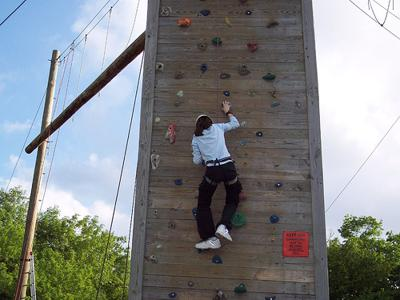person: (190, 102, 243, 250)
